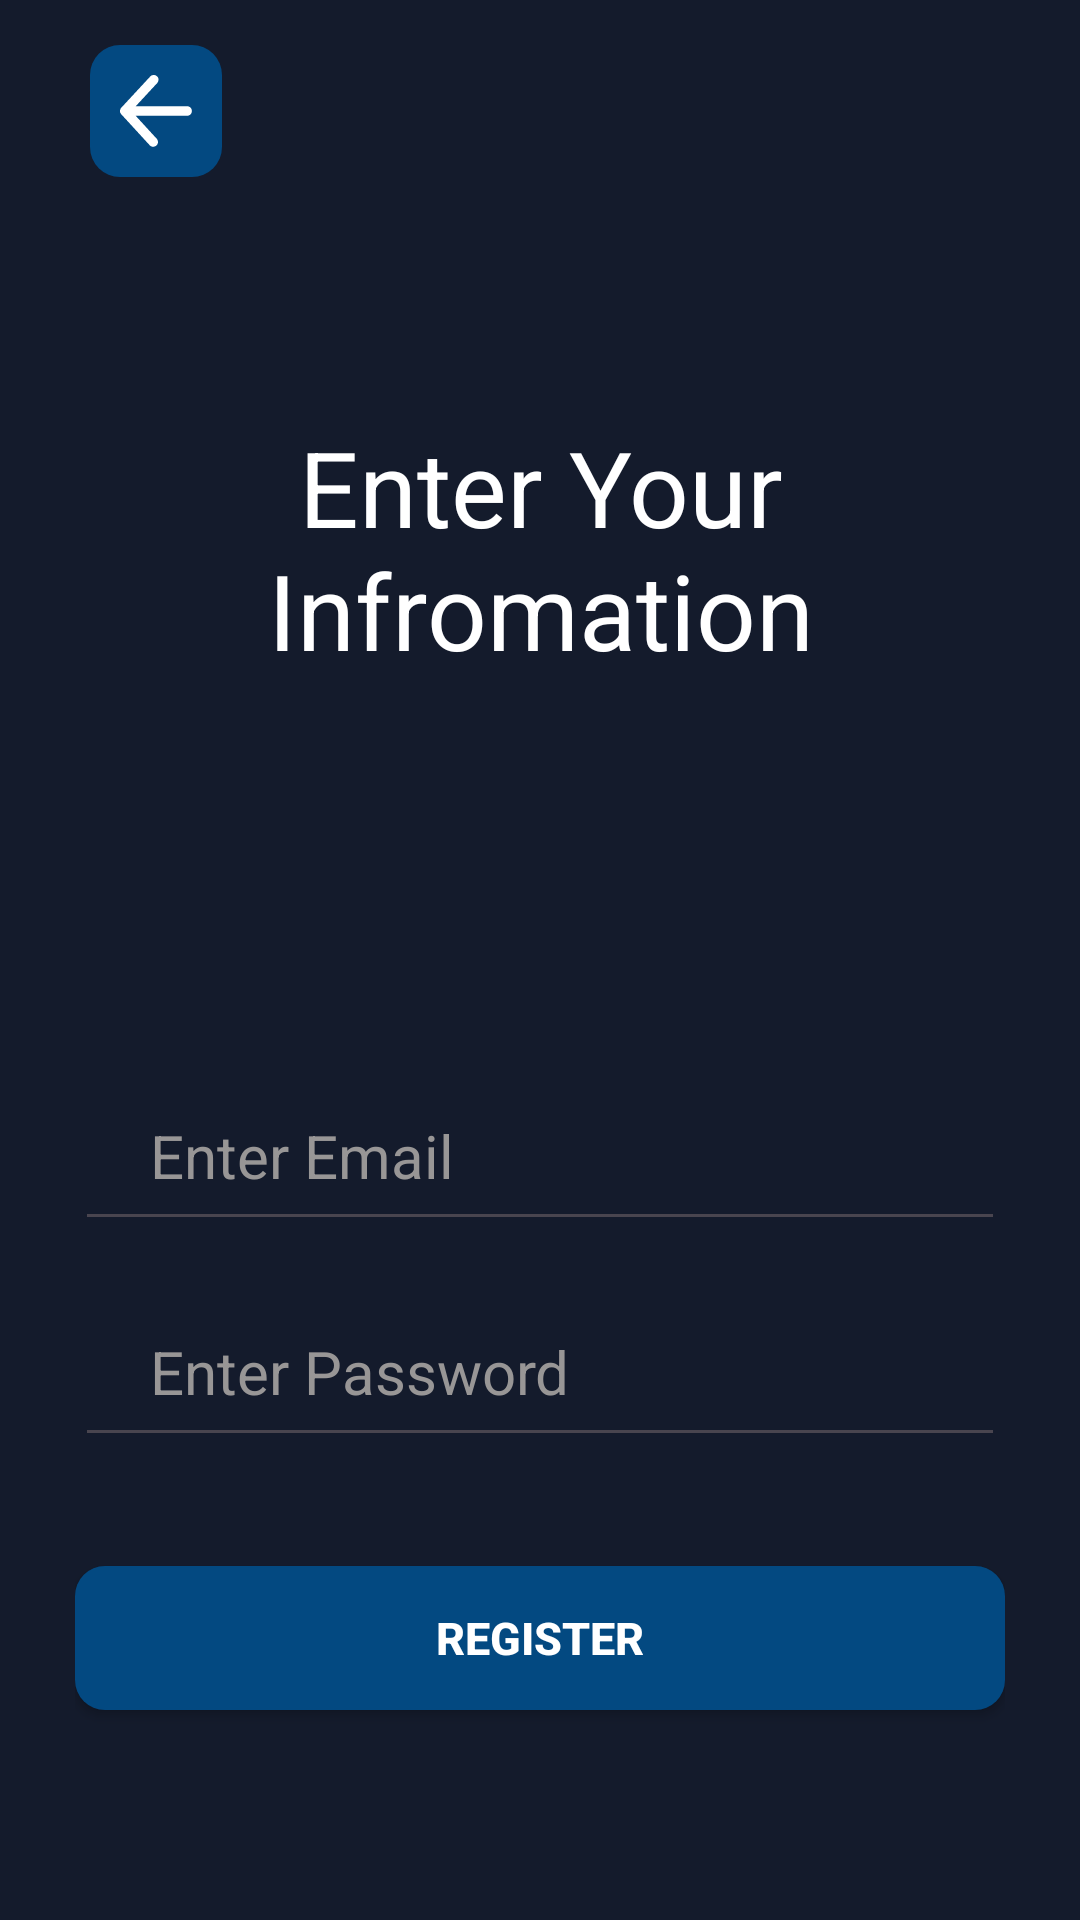

Where icons sit on this 1080x1920 app screen, as (x1, y1, x2, y2):
back: (90, 45, 222, 177)
